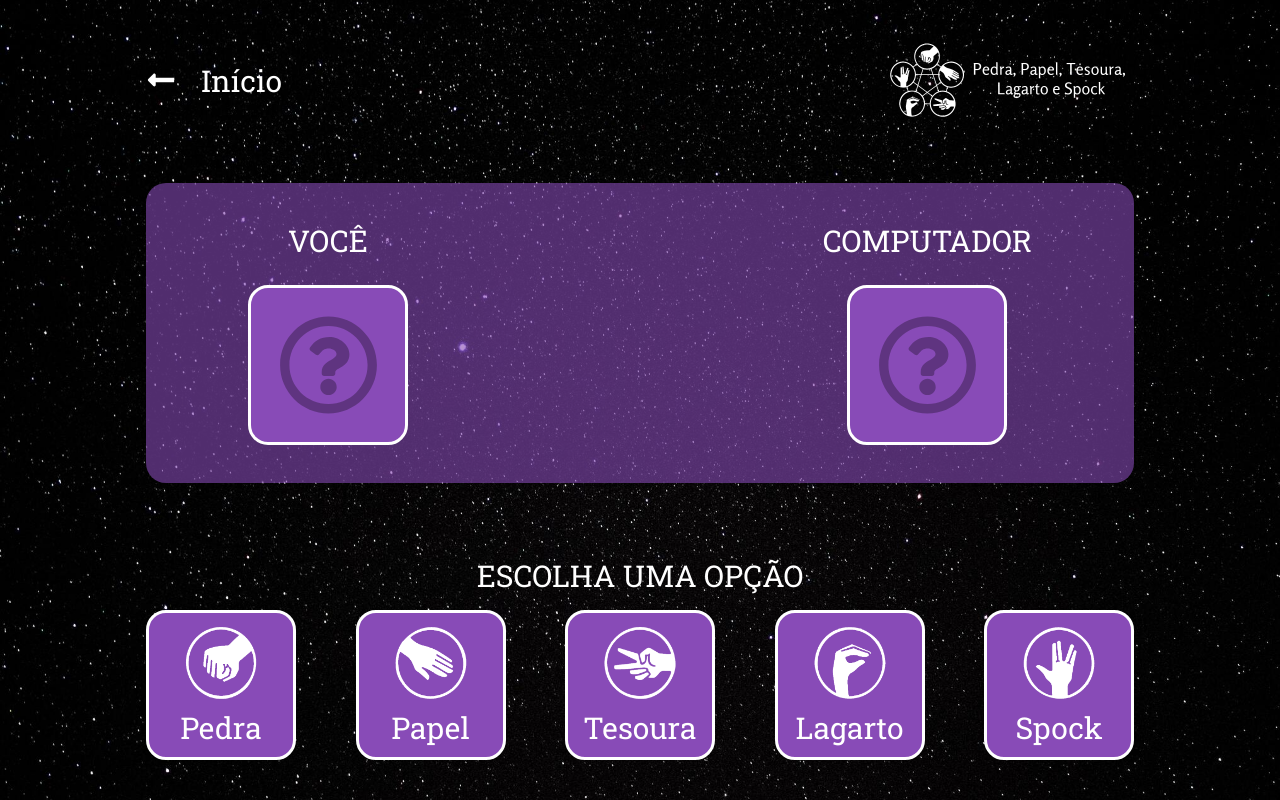
Test: Home page › should reset all info when play again button is clicked
Click the button "Papel".
click(430, 685)  # box x1=356 y1=610 x2=506 y2=760
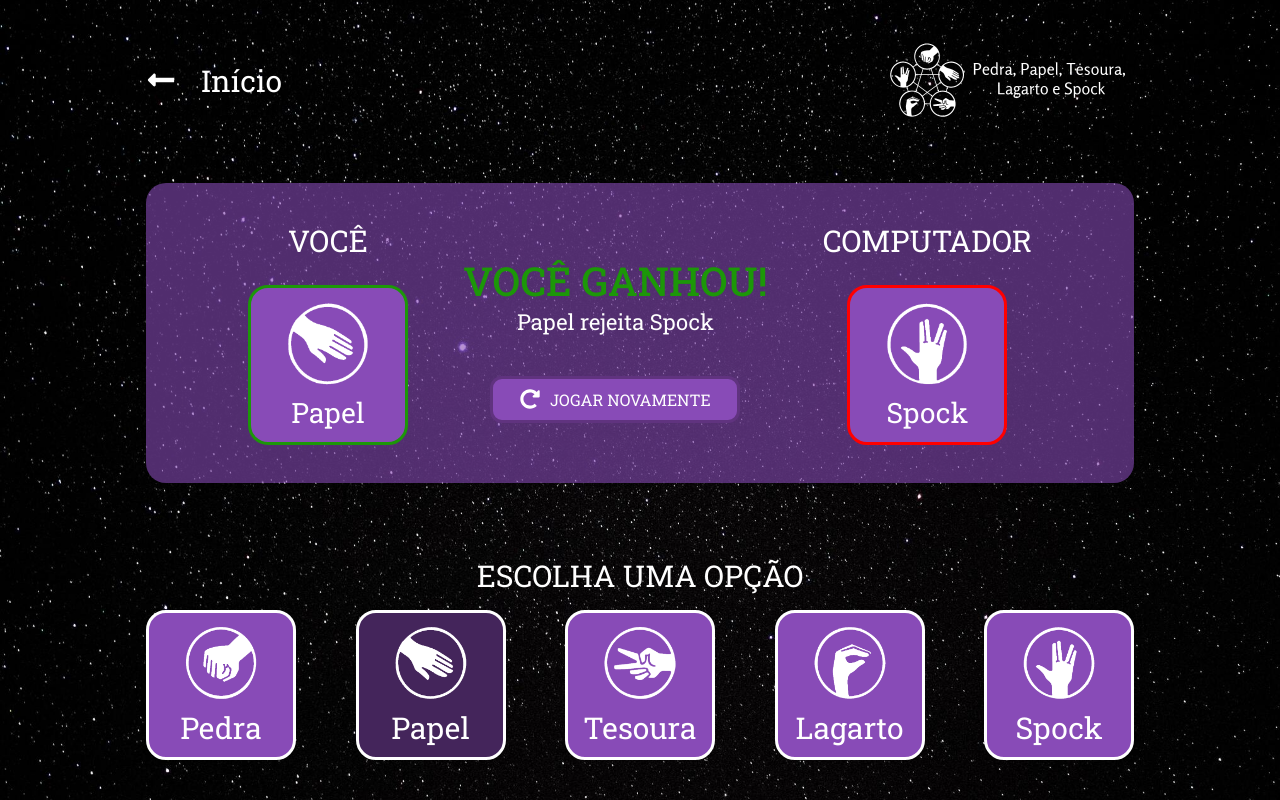
Now the number of headings with id "resultDisplay" is 1, box x1=463 y1=254 x2=767 y2=306
Now the number of buttons with id "buttonPlayAgain" is 1
Click the button with id "buttonPlayAgain".
click(615, 399)  # box x1=490 y1=376 x2=740 y2=422
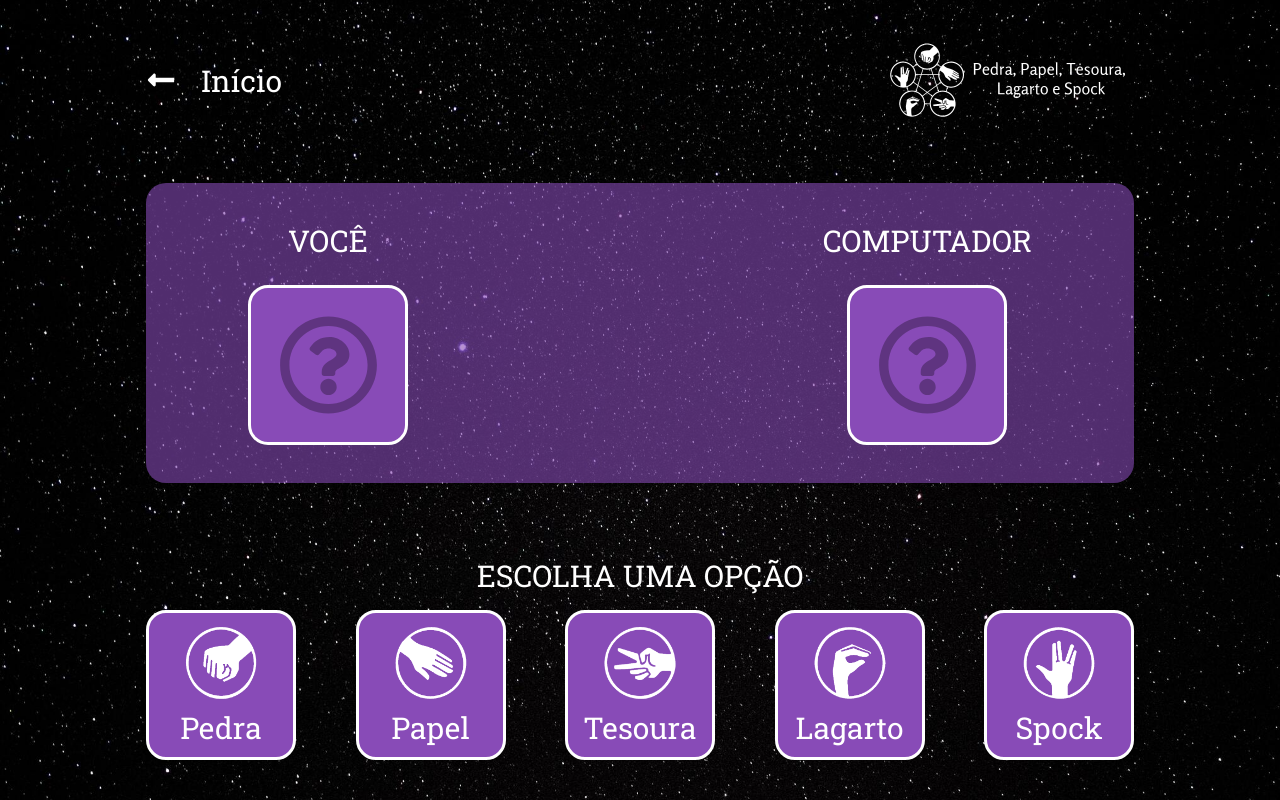
Now no headings with id "resultDisplay" are shown
Now no buttons with id "buttonPlayAgain" are shown
